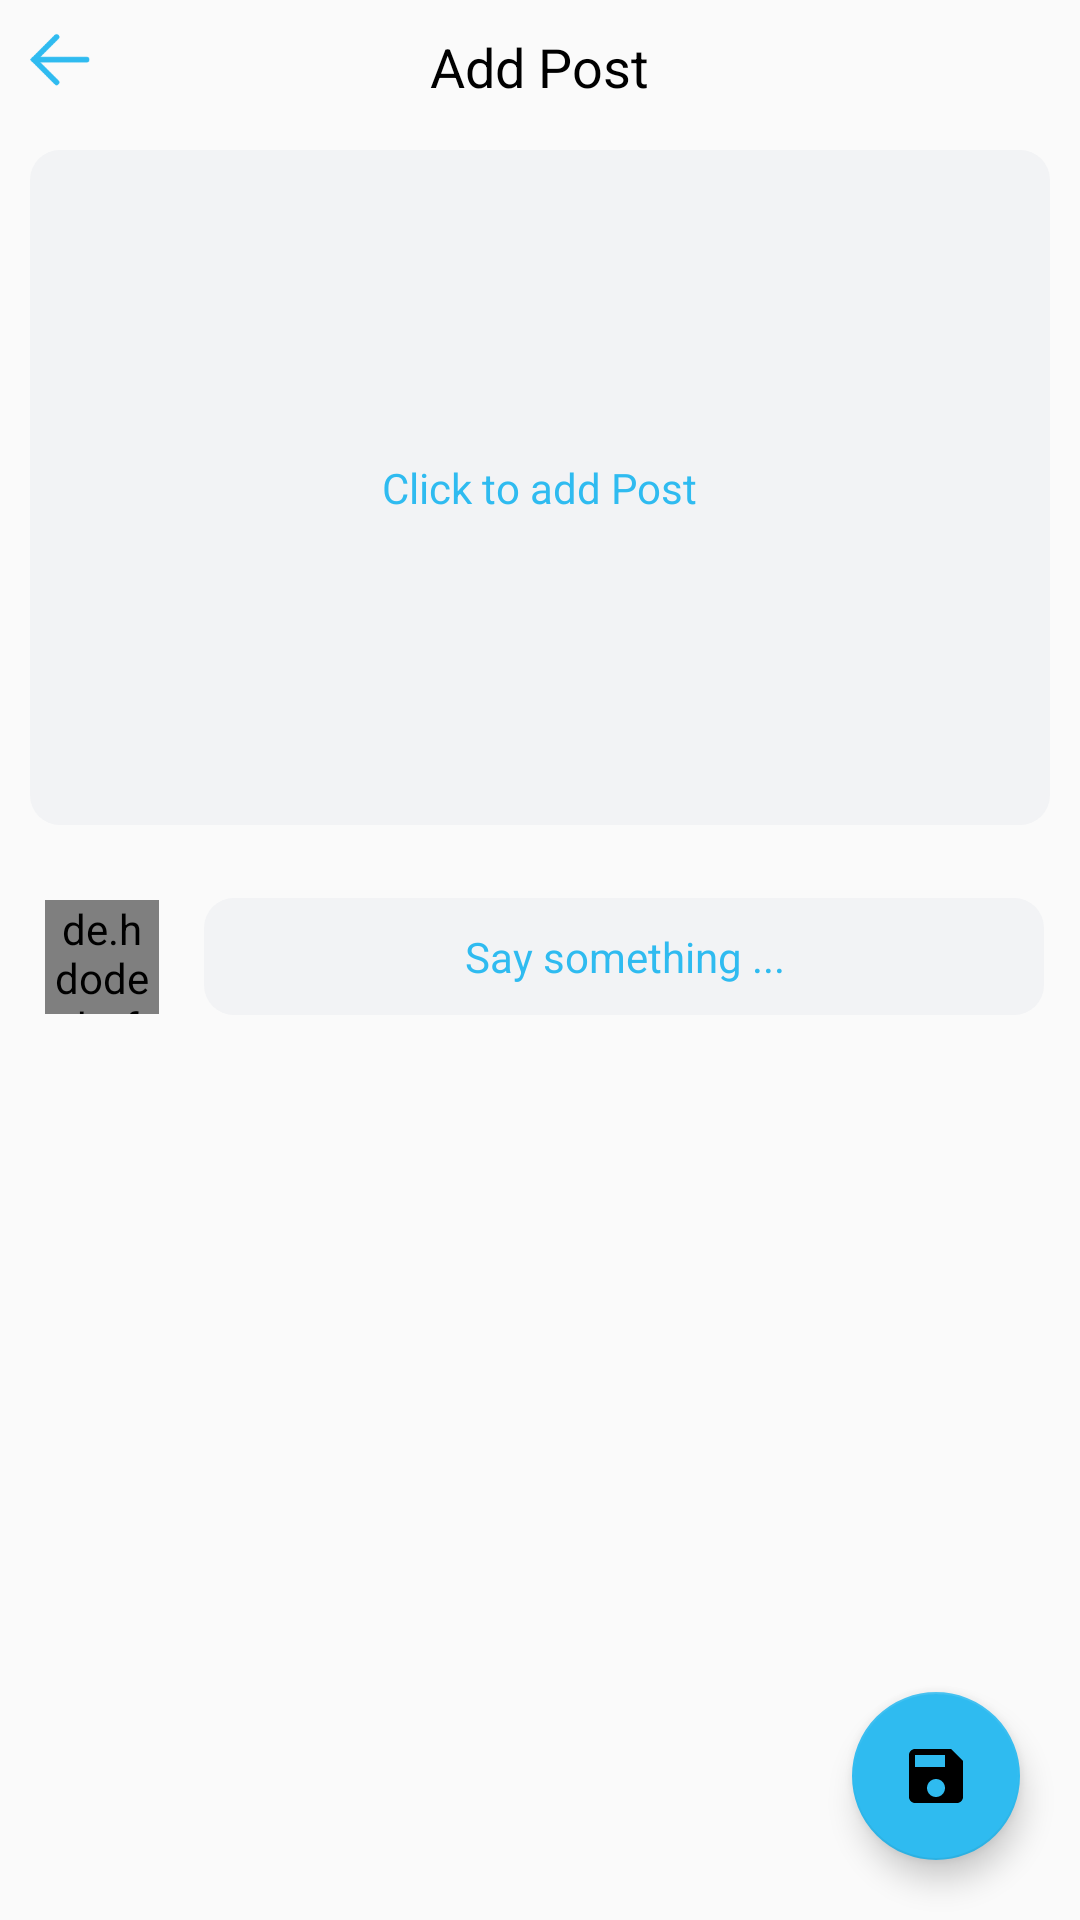

Icons on this 1080 x 1920 Android screen, each with the point to tap as (x,y):
back: (60,60)
save: (936,1776)
